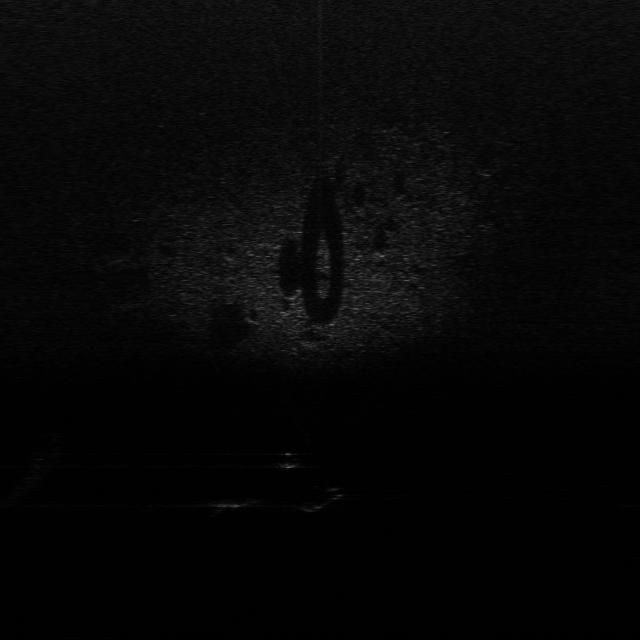ball: (271, 448, 307, 473)
square cage: (207, 490, 271, 519)
tyre: (299, 482, 352, 516)
